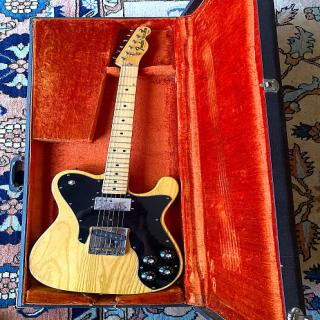Fender Telecaster: (26, 26, 185, 296)
SH: (82, 192, 143, 258)
